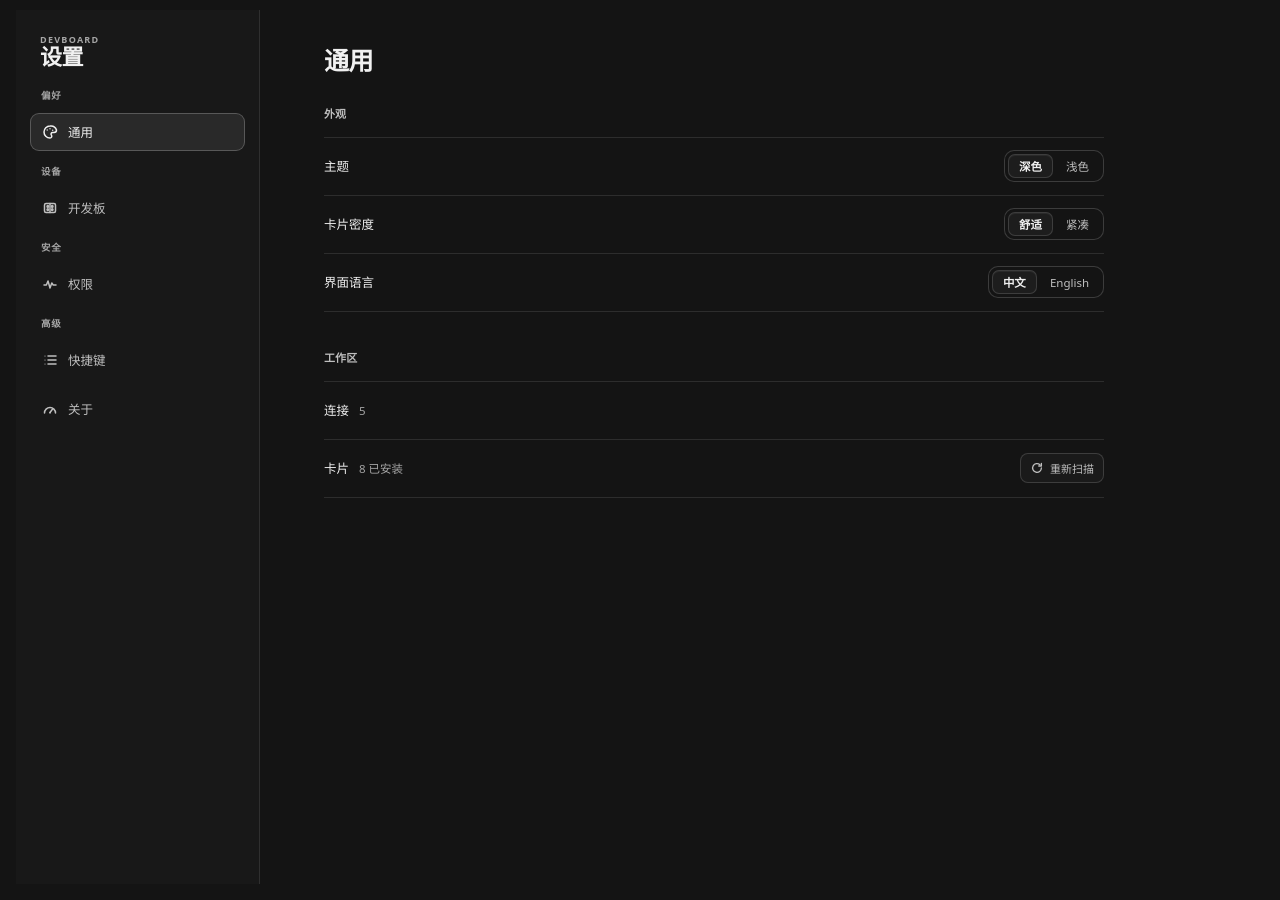
Test case: The settings page · the permission area › localises built-in operation labels while keeping custom labels intact
Click the button "权限" at (138, 284), box [30,265,245,303]
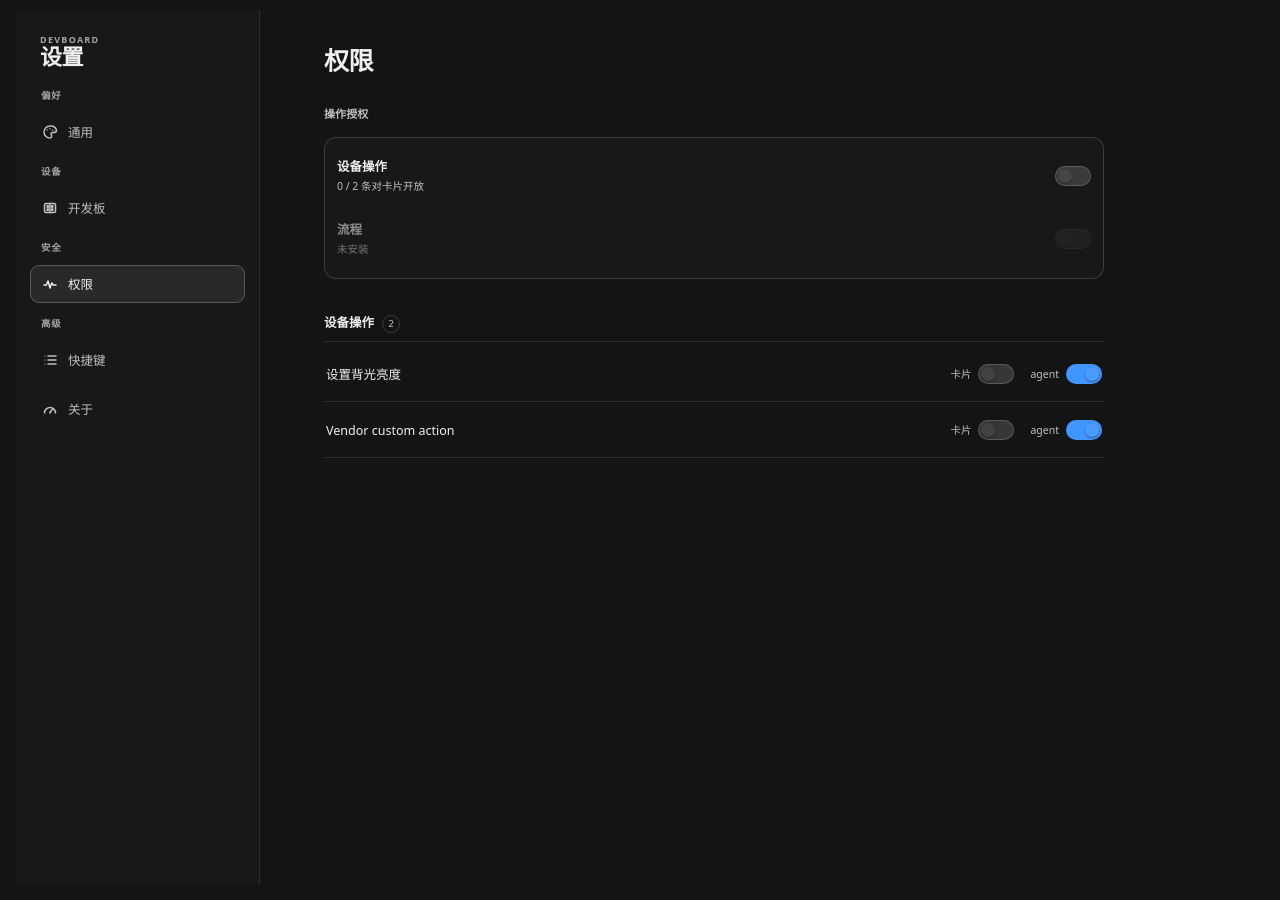
Result: the text "设置背光亮度" is shown at [326,365,401,384]
Result: the text "Vendor custom action" is shown at [326,421,454,440]
